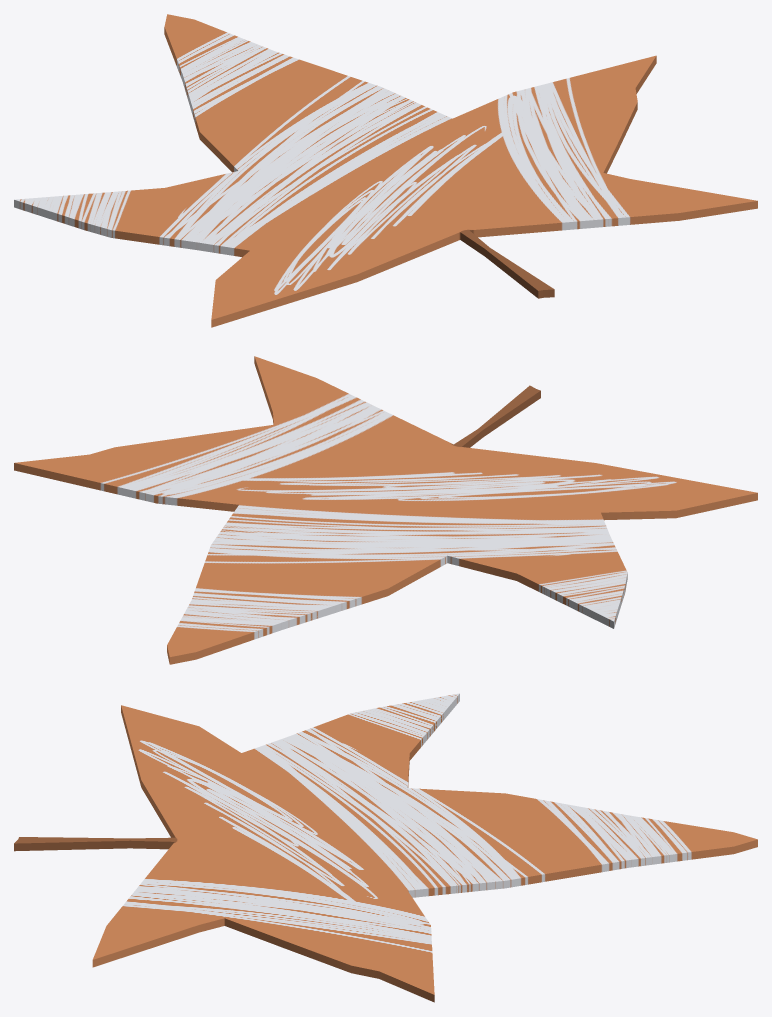
Rendered from maple leaf level 1.fbx.
3 renders of one model, top to bottom at view 1: azimuth 30°, elevation 25°; view 2: azimuth 150°, elevation 25°; view 3: azimuth 270°, elevation 25°, orthographic. The views are drawn at different scales.
Parts seen in each view (by area): view 1: Maple Leaf; view 2: Maple Leaf; view 3: Maple Leaf.
Boxes of the visible parts, box(x1,y1,x2,y2) form: Maple Leaf: box(14, 14, 757, 327); Maple Leaf: box(14, 356, 757, 664); Maple Leaf: box(14, 693, 757, 1002).
Size of the model in its own units: 18.55 by 0.2186 by 19.34.
Materials: 1 (1 with a texture image).
